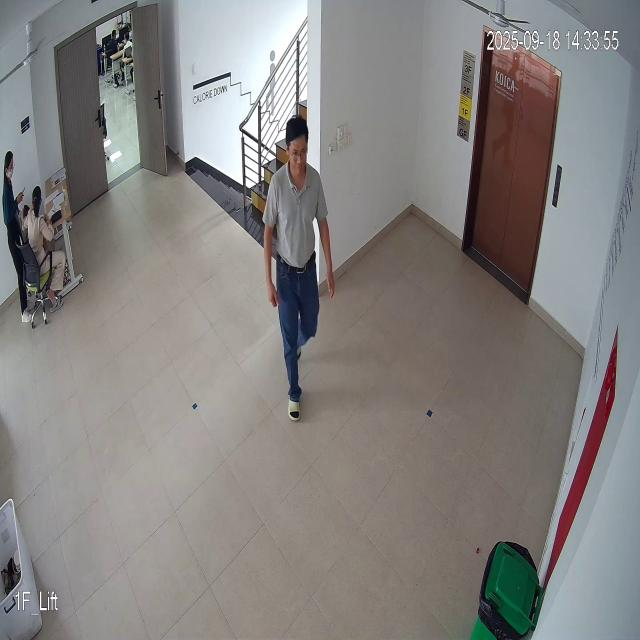face: (284, 116, 310, 180)
